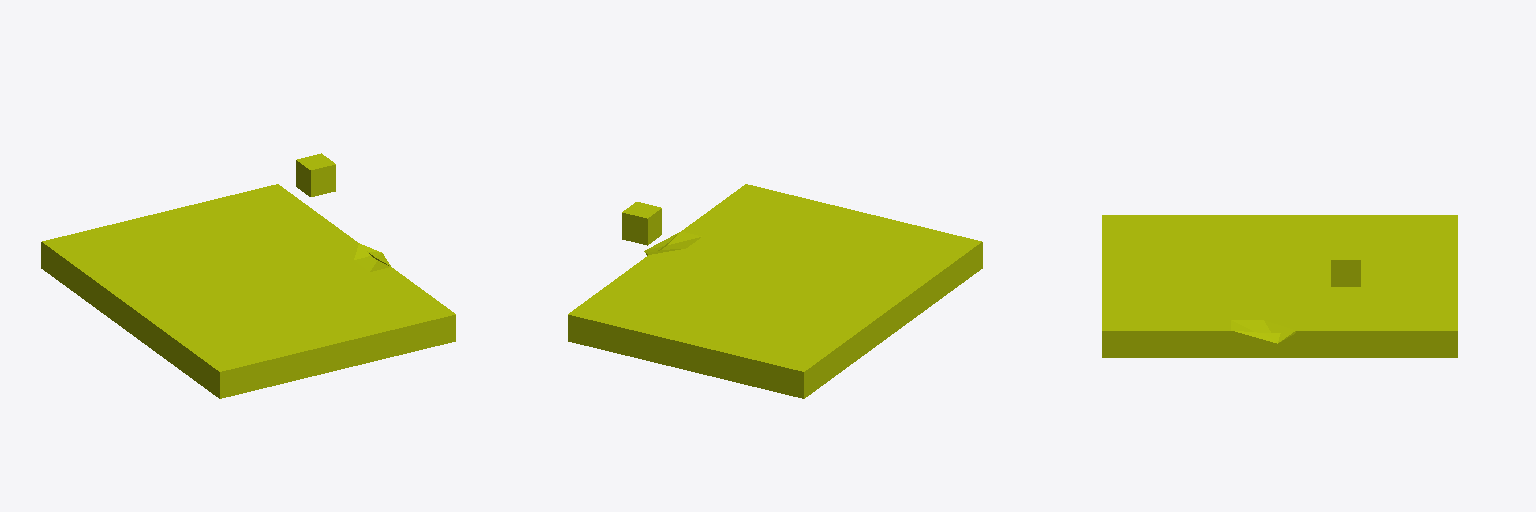
File: platform.obj
3 renders of one model, left to right at view 1: azimuth 30°, elevation 25°; view 2: azimuth 150°, elevation 25°; view 3: azimuth 270°, elevation 25°, orthographic.
Visible parts, largest first — view 1: Cube1, Cube2; view 2: Cube1, Cube2; view 3: Cube1, Cube2.
Part boxes in pixels (left/top/right/bottom): Cube1: left=41, top=184, right=455, bottom=398; Cube2: left=296, top=153, right=335, bottom=196; Cube1: left=568, top=184, right=982, bottom=398; Cube2: left=622, top=202, right=661, bottom=245; Cube1: left=1102, top=215, right=1457, bottom=357; Cube2: left=1331, top=248, right=1360, bottom=286.
Bounding box in the file's own units: 19.45 × 7.01 × 23.96.